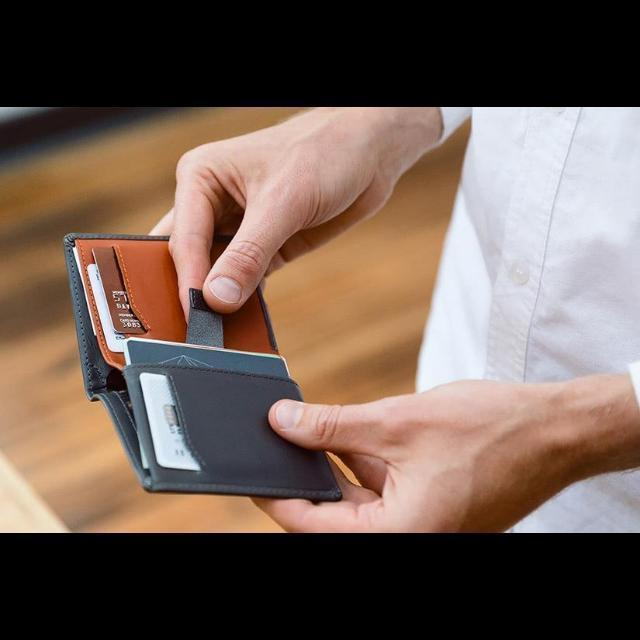wallet: (58, 224, 348, 506)
